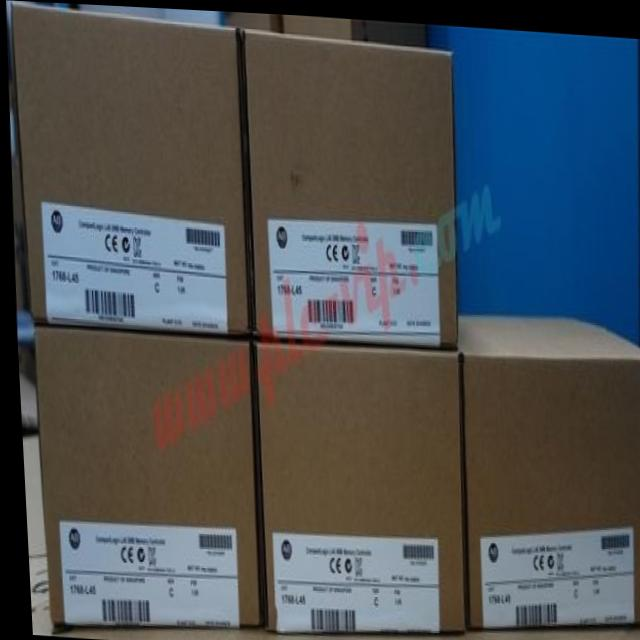box: (11, 6, 249, 334), (239, 28, 453, 342), (30, 332, 253, 625), (250, 343, 458, 628), (454, 310, 640, 621)
